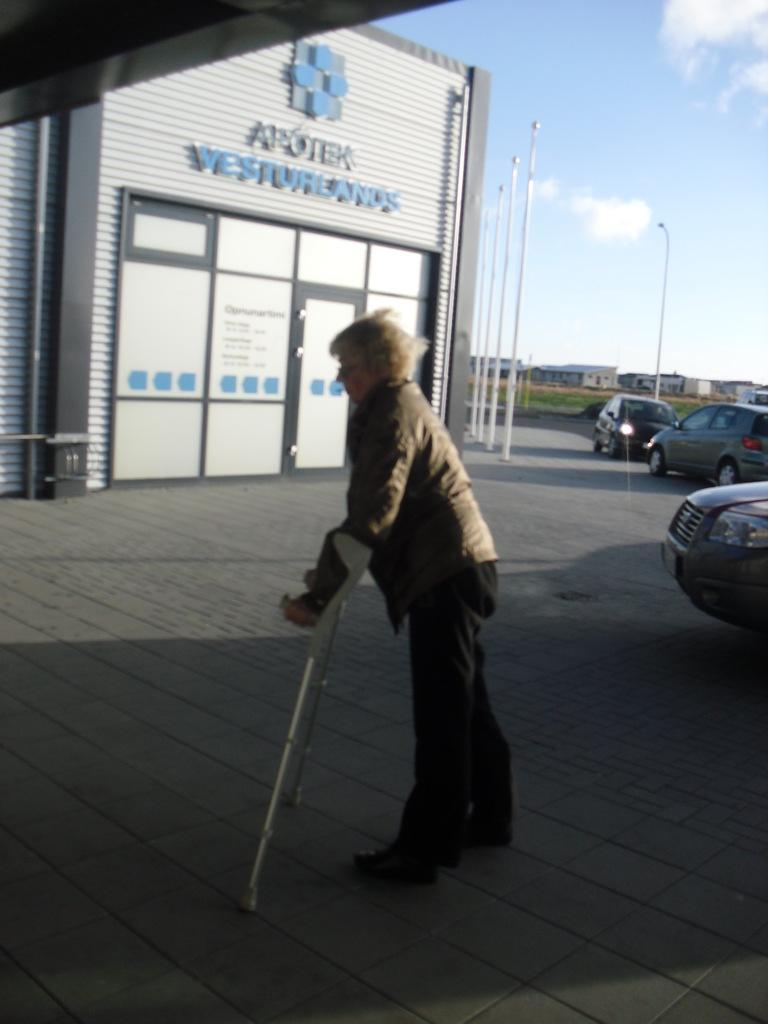crutches: (232, 300, 523, 917)
